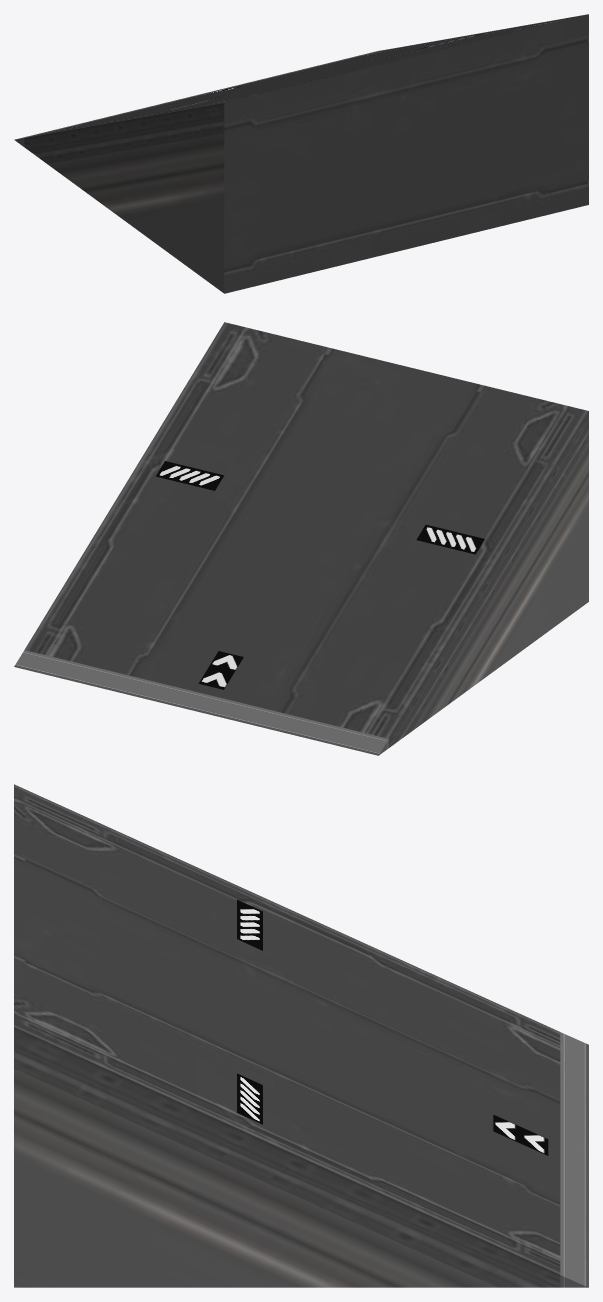
File: sf_ramp_2.glb
3 renders of one model, top to bottom at view 1: azimuth 30°, elevation 25°; view 2: azimuth 150°, elevation 25°; view 3: azimuth 270°, elevation 25°, orthographic. The views are drawn at different scales.
Parts seen in each view (by area): view 1: Platform_Ramp_2; view 2: Platform_Ramp_2; view 3: Platform_Ramp_2.
Boxes of the visible parts, x1=… form: Platform_Ramp_2: x1=14, y1=14, x2=588, y2=293; Platform_Ramp_2: x1=14, y1=322, x2=588, y2=755; Platform_Ramp_2: x1=14, y1=784, x2=588, y2=1287.
Size of the model in its own units: 2 by 1 by 2.
3 materials, 3 textured.
